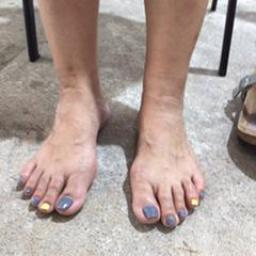Front View -Both Feet-: (12, 37, 218, 236)
